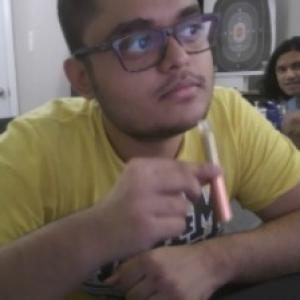Golden-E-Ciggirate: (195, 114, 238, 224)
